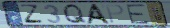3: (43, 3, 63, 25)
A: (85, 3, 112, 25)
E: (125, 3, 151, 25)
P: (105, 4, 125, 25)
Q: (62, 3, 89, 25)
Z: (20, 4, 45, 24)
